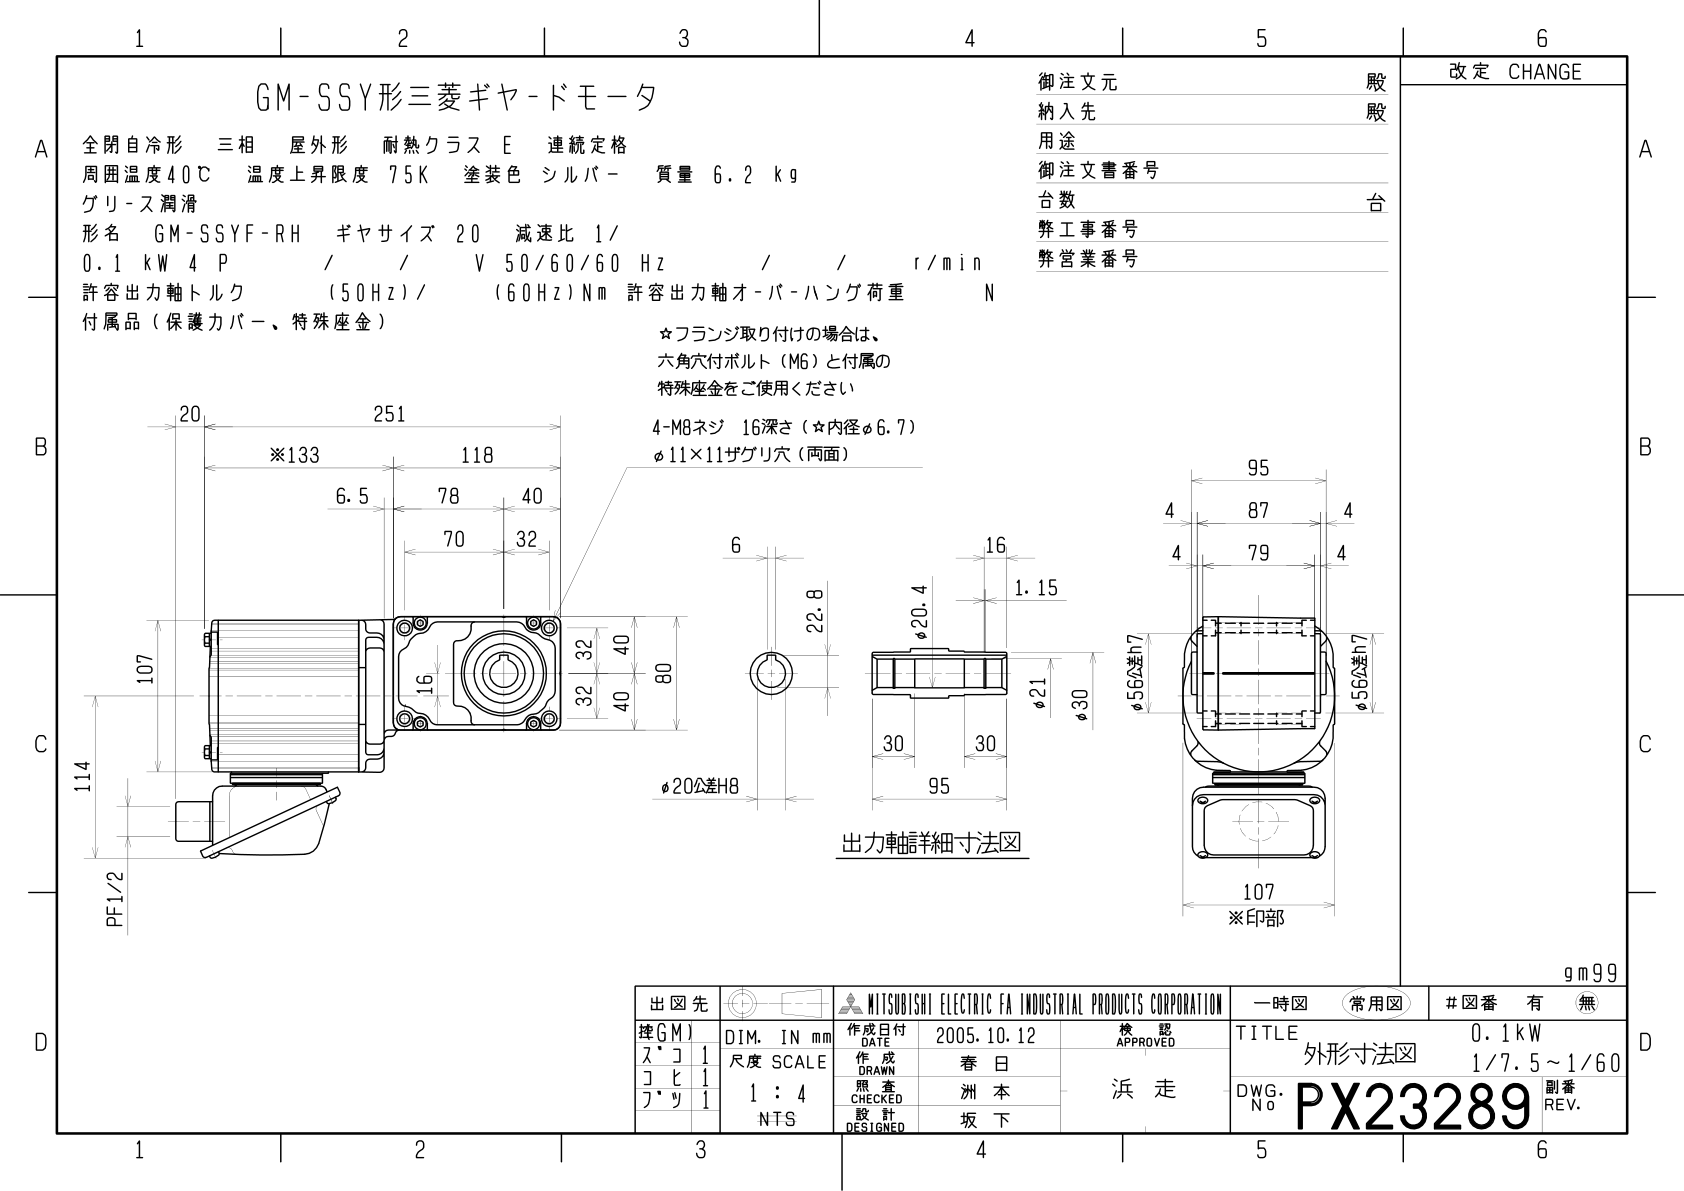GM_SSY_屋外_三相: (12, 15, 1684, 1191)
